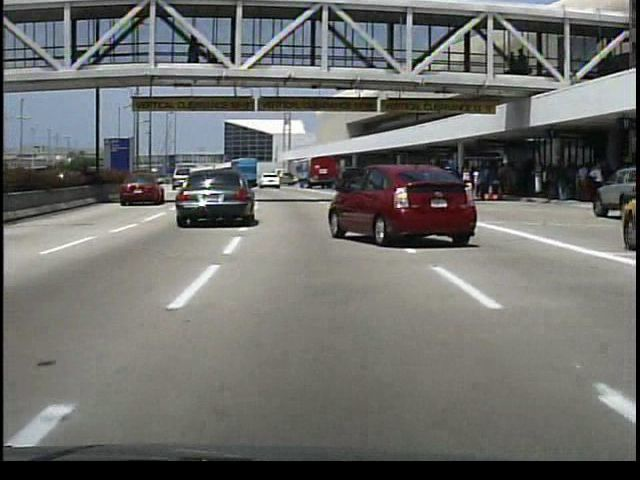person: (477, 163, 491, 202), (187, 32, 203, 63)
